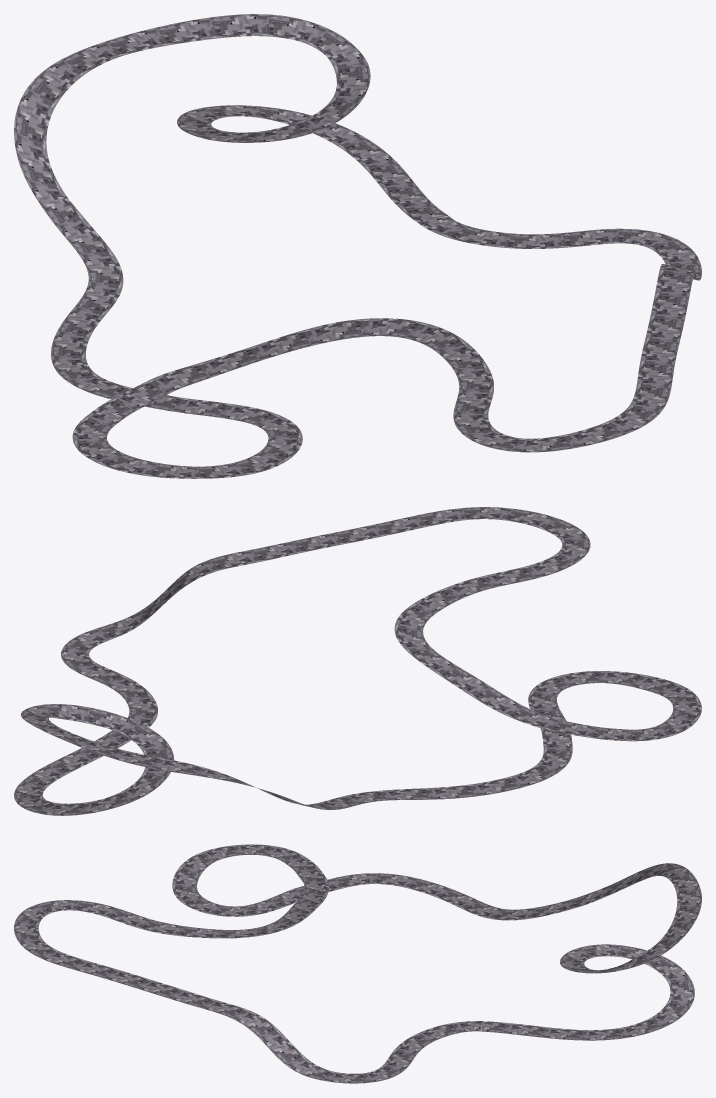
Rendered from CityMap_track.fbx.
3 renders of one model, top to bottom at view 1: azimuth 30°, elevation 25°; view 2: azimuth 150°, elevation 25°; view 3: azimuth 270°, elevation 25°, orthographic. The views are drawn at different scales.
Visible parts, largest first — view 1: export_track; view 2: export_track; view 3: export_track.
Part boxes in pixels (x1,y1,x2,y2): export_track: (14, 14, 701, 478); export_track: (14, 507, 701, 815); export_track: (14, 844, 701, 1083).
Size of the model in its own units: 1876 by 302 by 2331.
1 material, 1 textured.
